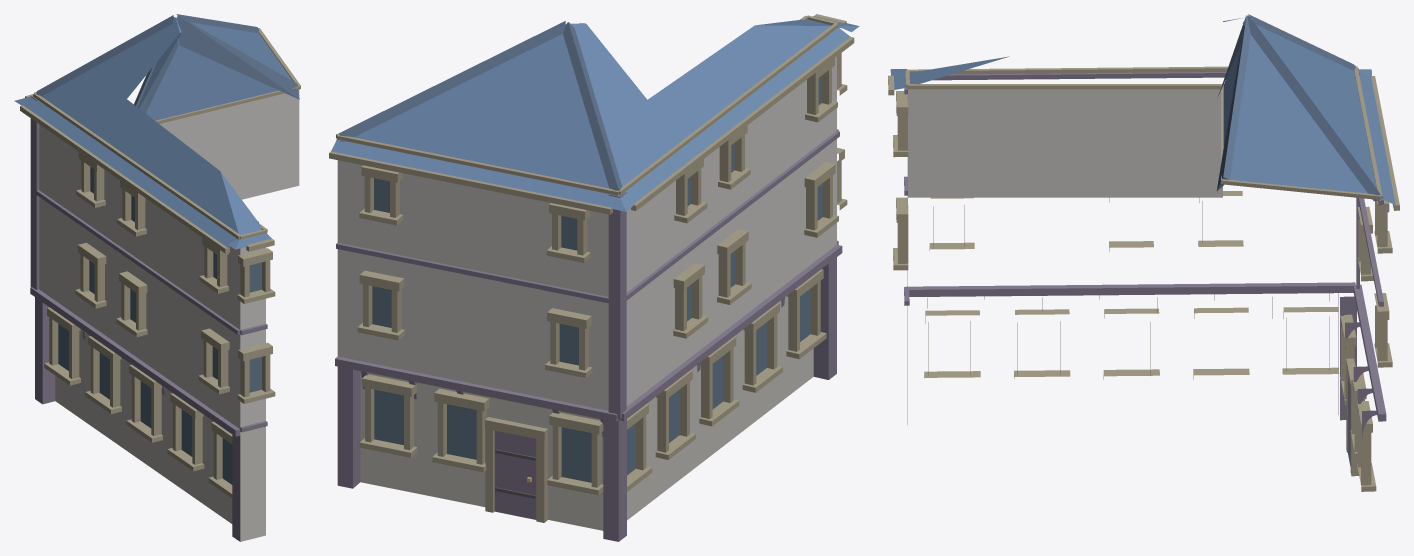
3 views of the same model, side by side, from view 1: azimuth 30°, elevation 25°; view 2: azimuth 150°, elevation 25°; view 3: azimuth 270°, elevation 25° (orthographic). The views are drawn at different scales.
Visible parts, largest first — view 1: B003_visible; view 2: B003_visible; view 3: B003_visible.
Part boxes in pixels (x1,y1,x2,y2): B003_visible: [14, 14, 300, 541]; B003_visible: [329, 14, 859, 541]; B003_visible: [888, 14, 1399, 491].
Bounding box in the file's own units: 8.31 × 12.57 × 12.97.
